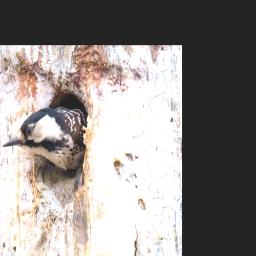Woodpecker: (3, 102, 85, 174)
